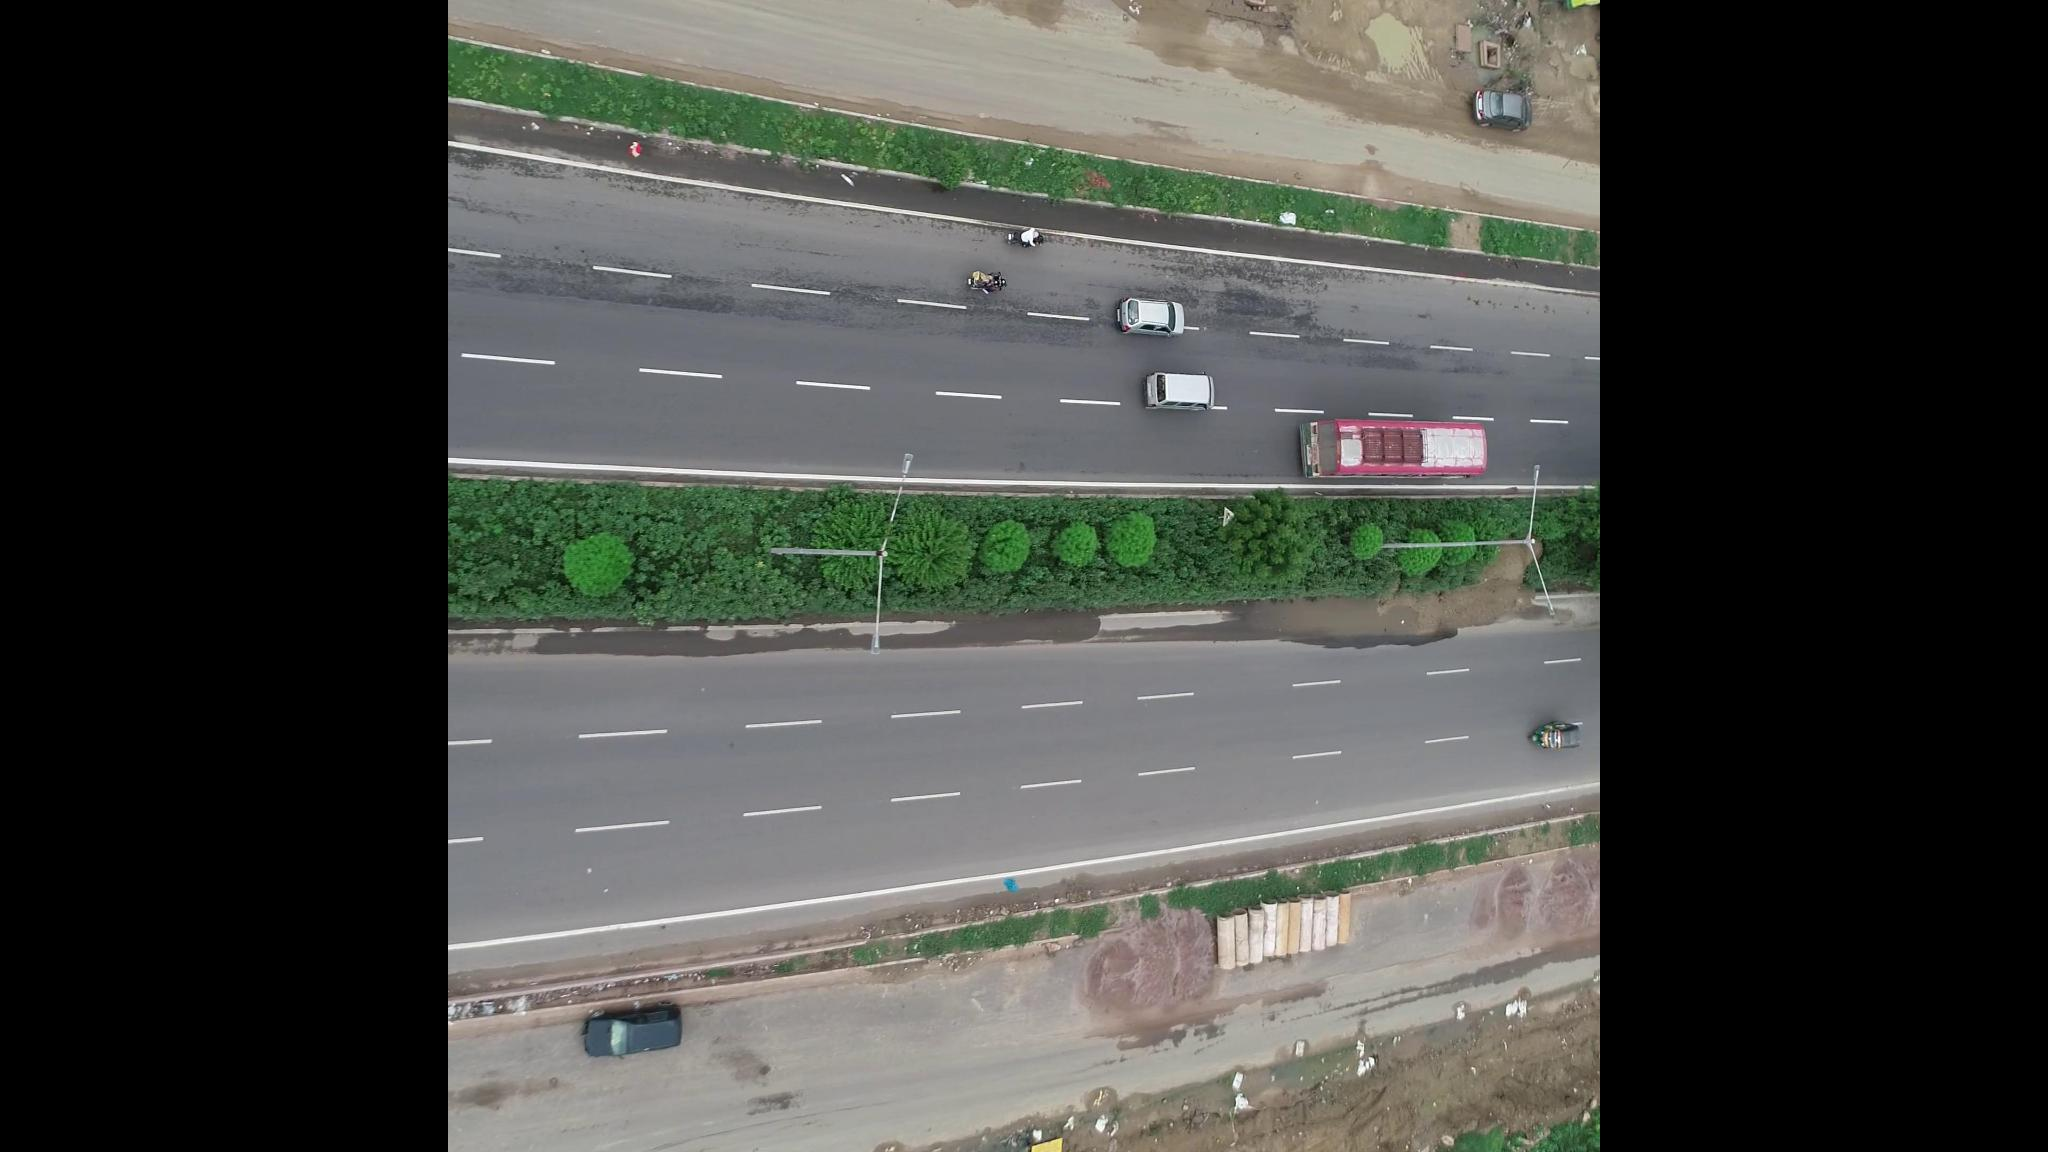Muddy_road: (1234, 596, 1546, 660)
